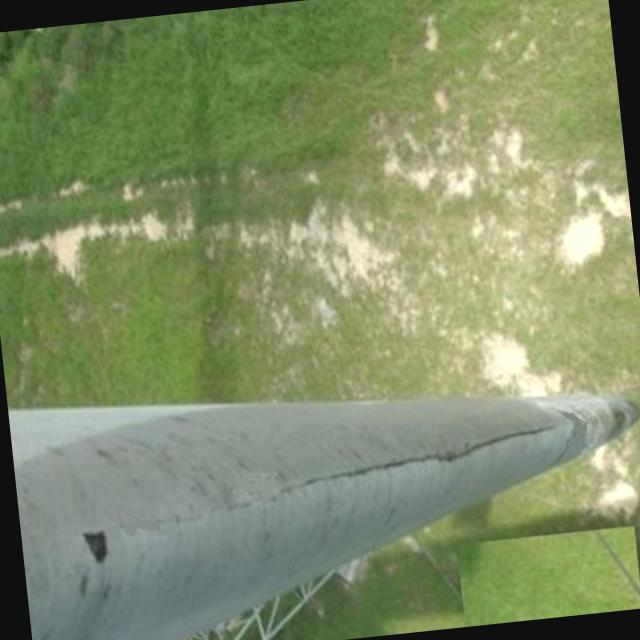crack: (286, 424, 560, 494)
surface_peeling: (78, 525, 114, 564)
